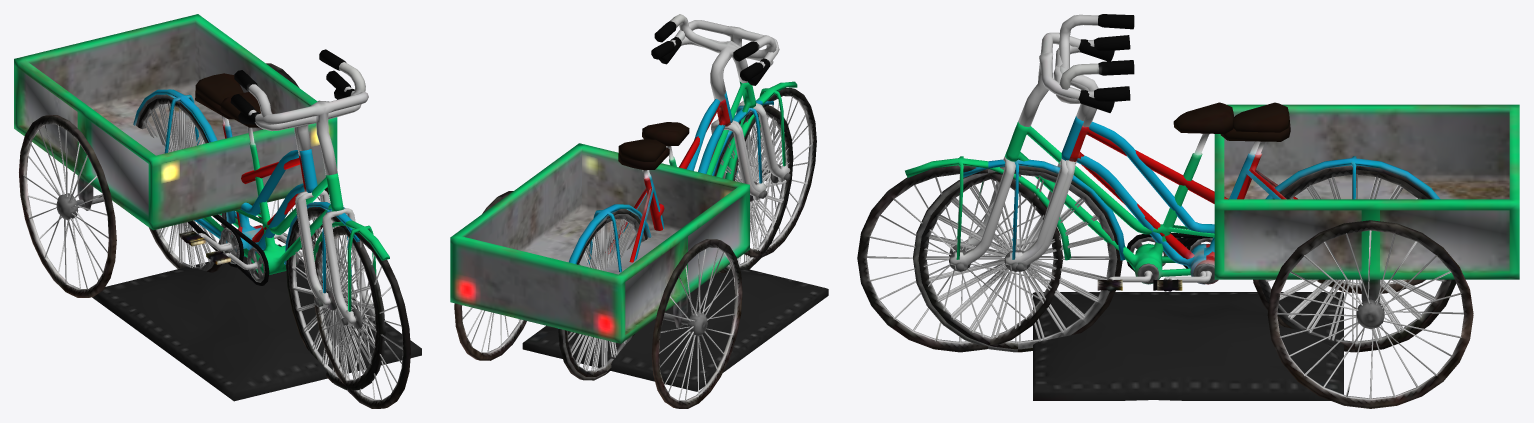
Rendered from bikes.glb.
3 views of the same model, side by side, from view 1: azimuth 30°, elevation 25°; view 2: azimuth 150°, elevation 25°; view 3: azimuth 270°, elevation 25° (orthographic). The views are drawn at different scales.
Visible parts, largest first — view 1: bikes_001, bikes_000, bikes_002, bikes_003; view 2: bikes_001, bikes_000, bikes_003, bikes_002; view 3: bikes_001, bikes_000, bikes_002, bikes_003.
Part boxes in pixels (x1=…): bikes_001: x1=14, y1=14, x2=410, y2=408; bikes_000: x1=92, y1=244, x2=421, y2=401; bikes_002: x1=133, y1=70, x2=385, y2=390; bikes_003: x1=136, y1=49, x2=378, y2=386; bikes_001: x1=450, y1=20, x2=816, y2=408; bikes_000: x1=522, y1=265, x2=828, y2=391; bikes_003: x1=558, y1=14, x2=791, y2=380; bikes_002: x1=558, y1=36, x2=793, y2=376; bikes_001: x1=857, y1=32, x2=1519, y2=408; bikes_000: x1=1033, y1=292, x2=1343, y2=400; bikes_002: x1=913, y1=35, x2=1451, y2=352; bikes_003: x1=918, y1=14, x2=1456, y2=352.
Size of the model in its own units: 0.8088 by 0.9686 by 1.86.
1 material, 1 textured.
